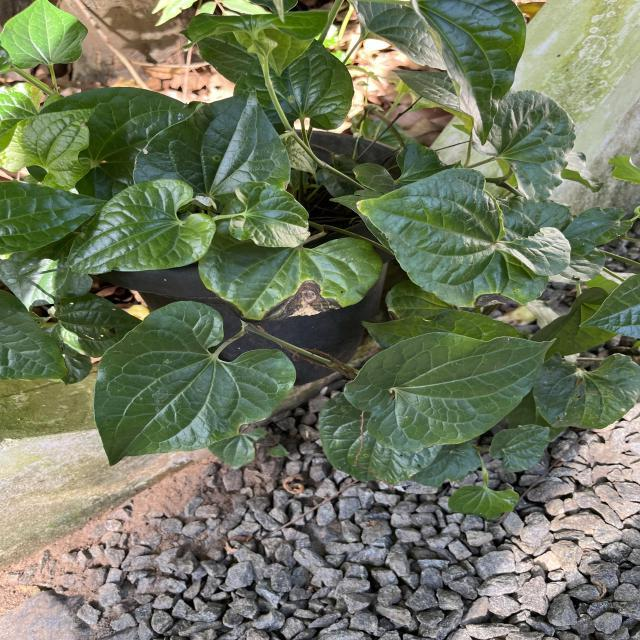Piper longum: (92, 298, 300, 469), (342, 331, 560, 454), (131, 84, 292, 190), (63, 176, 219, 276)
